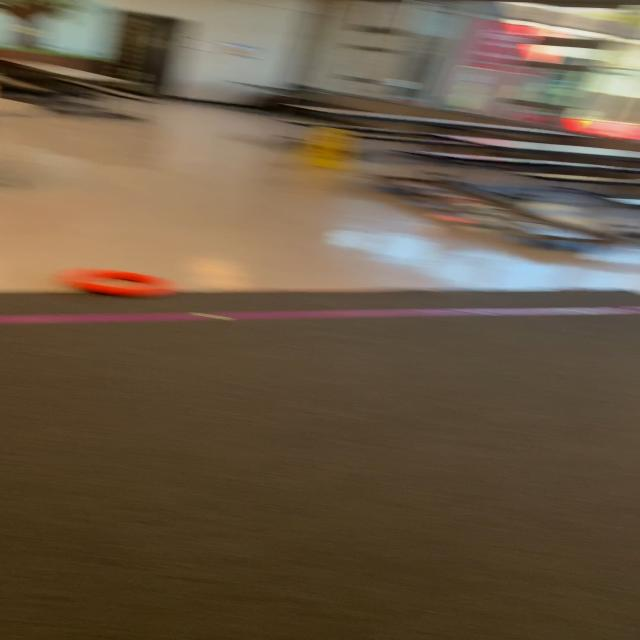notes: (60, 267, 174, 297)
